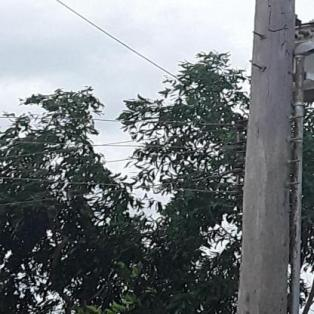Poste: (222, 0, 314, 314)
